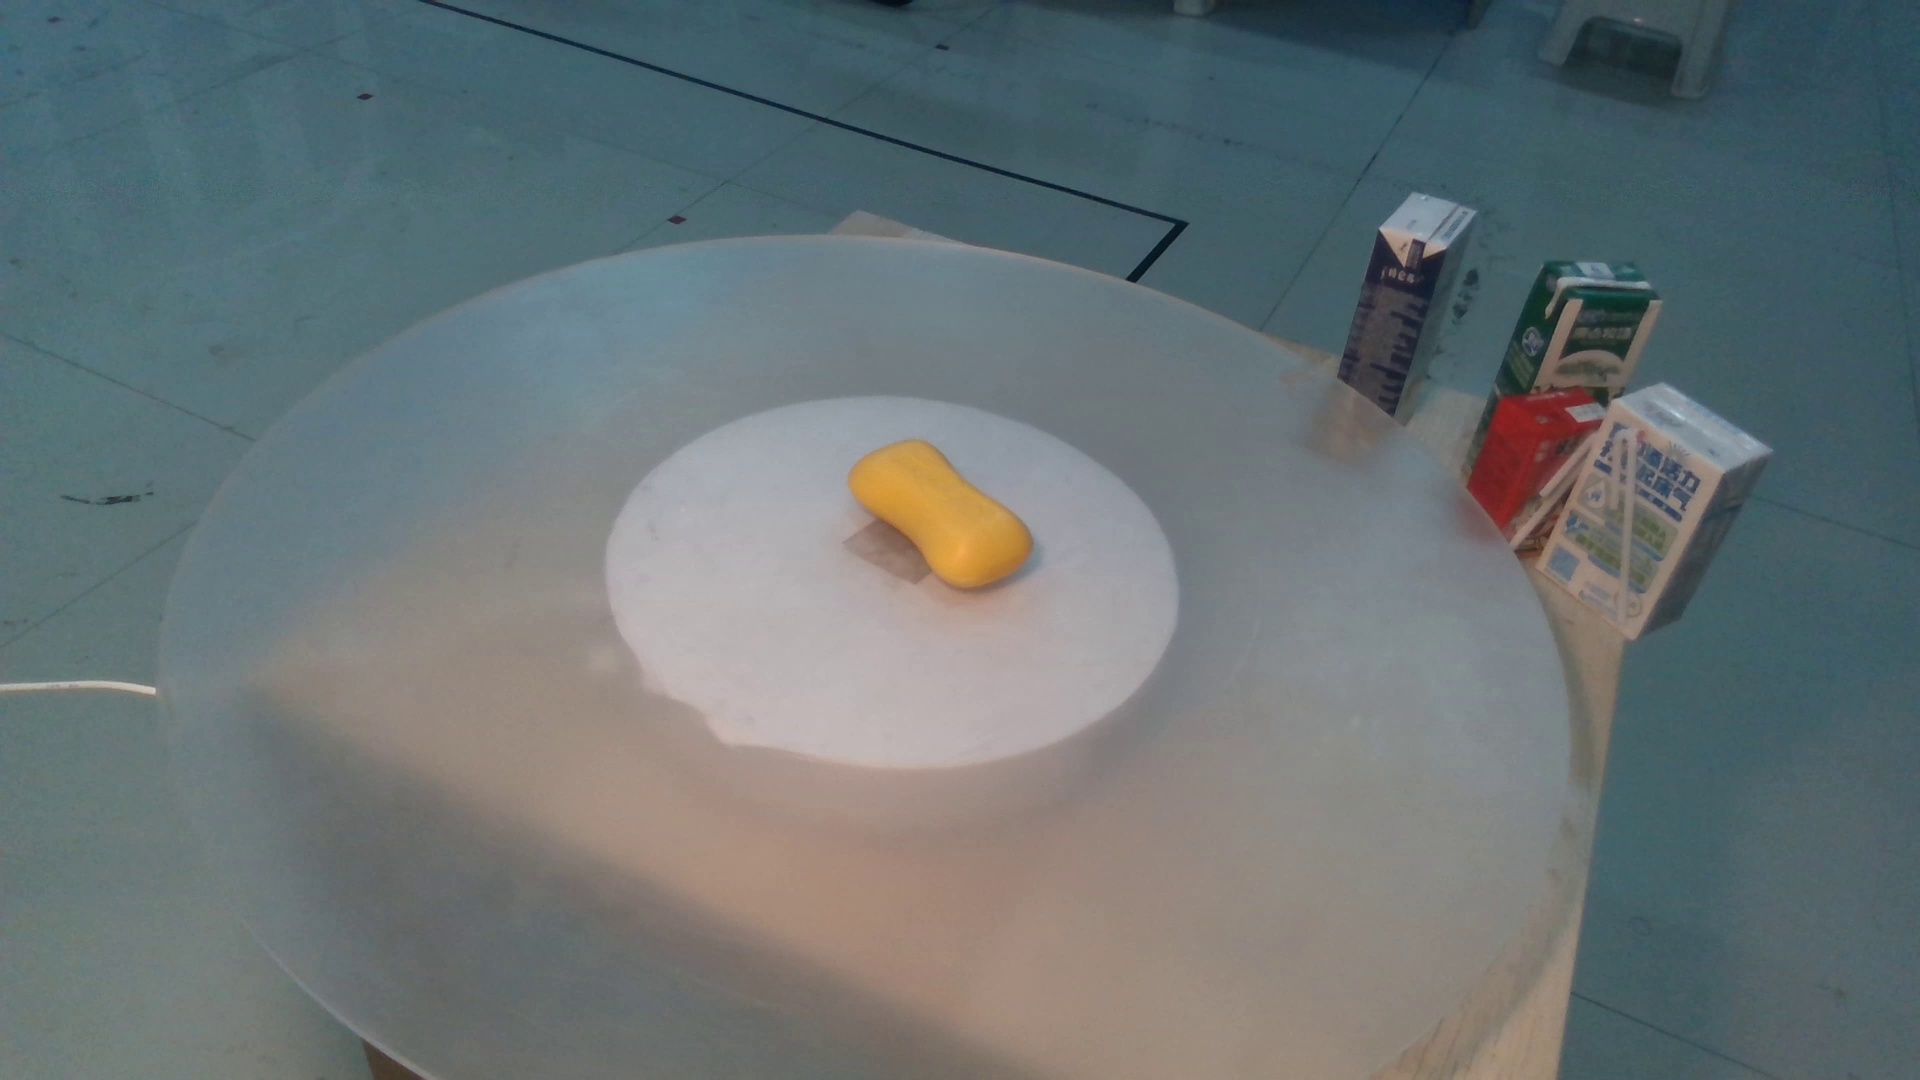CA003_1: (837, 431, 1048, 589)
